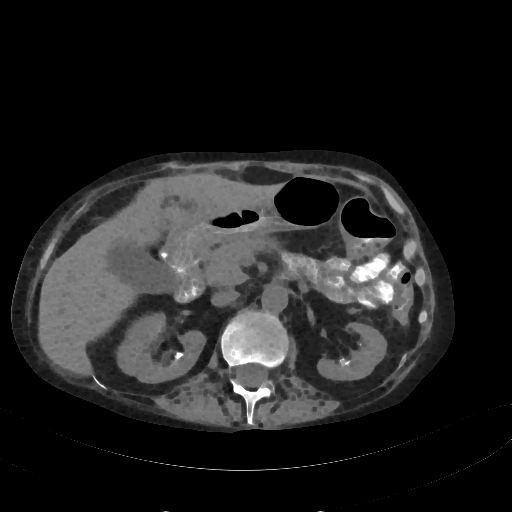Lesion: (174, 350, 187, 362)
